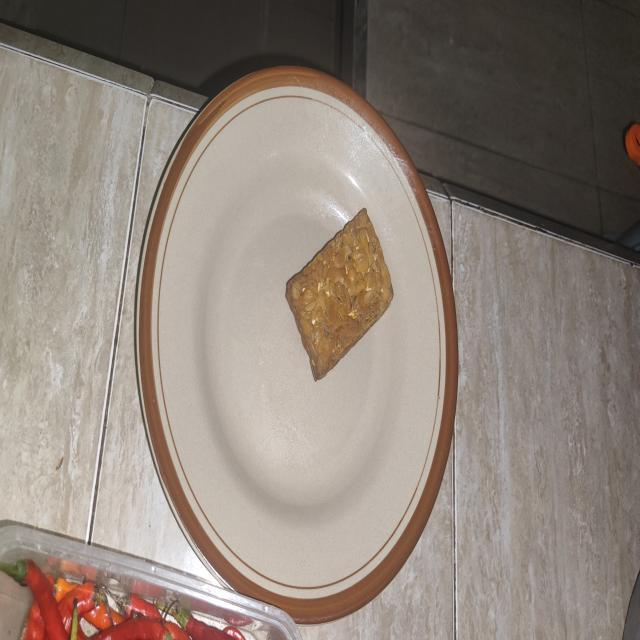tempe_goreng: (286, 209, 393, 380)
